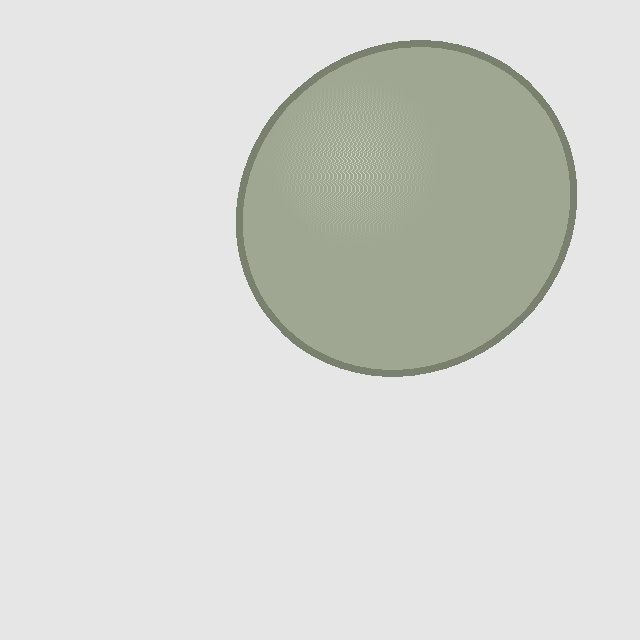lens: (240, 43, 572, 373)
